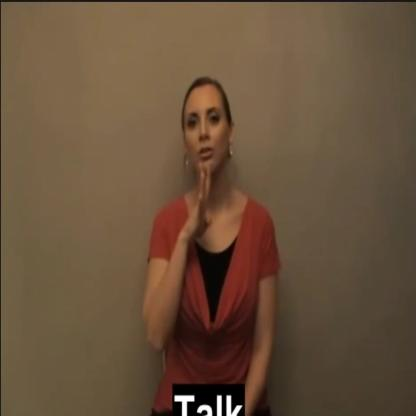Talk: (172, 73, 253, 251)
